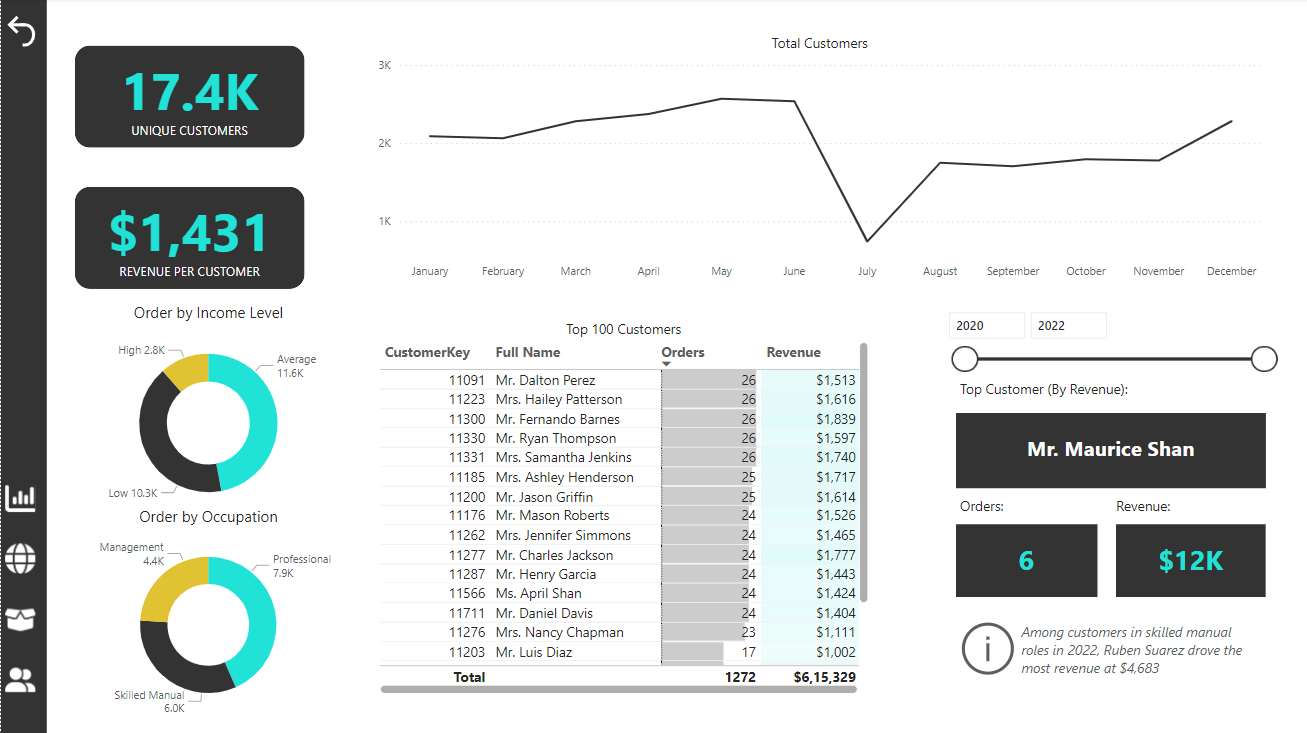

What the dashboard file says about the page in this screenshot:
{"tool":"powerbi","page":{"name":"Customer Detail","canvas":[1280,720],"ordinal":3},"visuals":[{"type":"shape","box":[0,0,45,720],"z":0},{"type":"actionButton","box":[0,470.8,53.8,37.9],"z":0,"group":"g1"},{"type":"actionButton","box":[0,529.9,53.8,37.9],"z":1000,"group":"g1"},{"type":"shape","box":[72.5,185,225,100],"z":1000},{"type":"actionButton","box":[0,589,53.8,37.9],"z":2000,"group":"g1"},{"type":"card","fields":{"Values":["Measure Table.Average Revenue per Customer"]},"box":[62.4,172.4,244.6,124.7],"z":2000},{"type":"shape","box":[72.5,46.2,225,100],"z":3000},{"type":"actionButton","box":[0,648.1,53.8,37.9],"z":3000,"group":"g1"},{"type":"card","fields":{"Values":["Measure Table.Total Customers"]},"box":[62.4,34.2,244.6,124.7],"z":4000},{"type":"lineChart","title":"Total Customers","fields":{"Y":["Measure Table.Total Customers"],"Category":["Calendar Lookup.Date.Variation.Date Hierarchy.Year","Calendar Lookup.Date.Variation.Date Hierarchy.Quarter","Calendar Lookup.Date.Variation.Date Hierarchy.Month","Calendar Lookup.Date.Variation.Date Hierarchy.Day"]},"box":[364.4,34.2,873.1,250.7],"z":5000},{"type":"donutChart","title":"Order by Income Level","fields":{"Category":["Customer Lookup.Income Level"],"Y":["Measure Table.Total Orders"]},"box":[72.1,297.1,261.7,217.7],"z":6000},{"type":"donutChart","title":"Order by Occupation","fields":{"Y":["Measure Table.Total Orders"],"Category":["Customer Lookup.Occupation"]},"box":[72.1,496.5,261.7,214],"z":7000},{"type":"tableEx","title":"Top 100 Customers","fields":{"Values":["Customer Lookup.CustomerKey","Customer Lookup.Full Name","Measure Table.Total Orders","Measure Table.Total Revenue"]},"box":[364.4,314.3,489.1,371.7],"z":8000},{"type":"card","fields":{"Values":["Measure Table.Full Name (Customer Detail)"]},"box":[934.2,406,303.3,73.4],"z":9000},{"type":"card","fields":{"Values":["Measure Table.Total Revenue (Customer Detail)"]},"box":[1090.8,514.8,146.7,70.9],"z":10000},{"type":"card","fields":{"Values":["Measure Table.Total Orders (Customer Detail)"]},"box":[934.2,514.8,138.2,70.9],"z":11000},{"type":"textbox","box":[933,368.1,183.4,50.1],"z":12000},{"type":"textbox","box":[933,483,92.9,34.2],"z":13000},{"type":"textbox","box":[1085.9,483,92.9,34.2],"z":14000},{"type":"slicer","fields":{"Values":["Calendar Lookup.Year"]},"box":[914.7,297.1,342.4,83.2],"z":15000},{"type":"actionButton","box":[933,604.1,304.5,64.8],"z":16000},{"type":"actionButton","box":[0,12.2,45.2,40.4],"z":17000},{"type":"group","id":"g1","title":"Page Navigation Buttons","box":[0,470.8,53.8,215.2],"z":18000}]}

Visuals, with their boxes on the page's 1280x720 design canvas (x1, y1, x2, y2). These are canvas units, not pixel positions in the 1307x733 screenshot, which may show the page scaled, cropped or inside an application window:
shape: <box>0,0,45,720</box>
actionButton: <box>0,471,54,509</box>
actionButton: <box>0,530,54,568</box>
shape: <box>72,185,298,285</box>
actionButton: <box>0,589,54,627</box>
card - Measure Table.Average Revenue per Customer: <box>62,172,307,297</box>
shape: <box>72,46,298,146</box>
actionButton: <box>0,648,54,686</box>
card - Measure Table.Total Customers: <box>62,34,307,159</box>
"Total Customers" lineChart: <box>364,34,1238,285</box>
"Order by Income Level" donutChart: <box>72,297,334,515</box>
"Order by Occupation" donutChart: <box>72,496,334,710</box>
"Top 100 Customers" tableEx: <box>364,314,854,686</box>
card - Measure Table.Full Name (Customer Detail): <box>934,406,1238,479</box>
card - Measure Table.Total Revenue (Customer Detail): <box>1091,515,1238,586</box>
card - Measure Table.Total Orders (Customer Detail): <box>934,515,1072,586</box>
textbox: <box>933,368,1116,418</box>
textbox: <box>933,483,1026,517</box>
textbox: <box>1086,483,1179,517</box>
slicer - Calendar Lookup.Year: <box>915,297,1257,380</box>
actionButton: <box>933,604,1238,669</box>
actionButton: <box>0,12,45,53</box>
"Page Navigation Buttons" group: <box>0,471,54,686</box>
